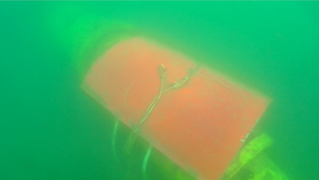4: (61, 10, 83, 31)
leak: (86, 36, 274, 180)
pipe: (46, 1, 137, 88), (220, 127, 291, 180), (135, 133, 193, 180)
